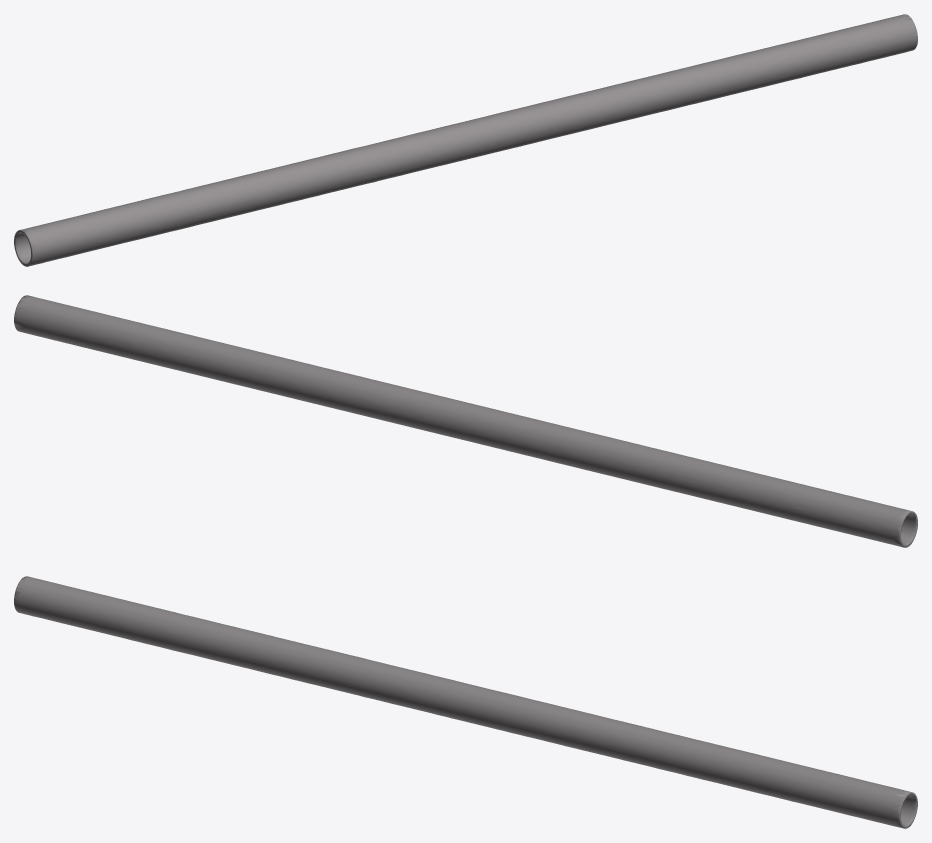
Rendered from Meshy_AI_Diagonal_Line_0603065726_texture.glb.
The picture shows the model from 3 angles, top to bottom: view 1: azimuth 30°, elevation 25°; view 2: azimuth 150°, elevation 25°; view 3: azimuth 330°, elevation 25°; orthographic projection.
Bounding box in the file's own units: 1.9 × 0.0701 × 0.0694.
1 material, 1 textured.
